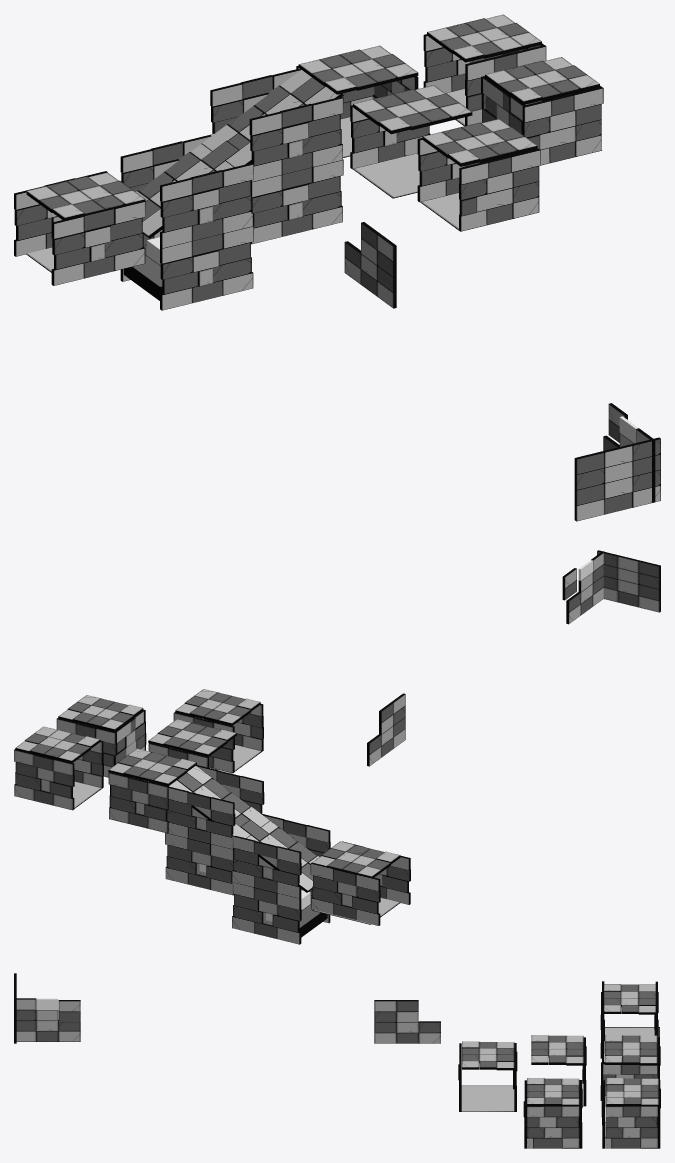
Rendered from all tiles.FBX.
The picture shows the model from 3 angles, top to bottom: view 1: azimuth 30°, elevation 25°; view 2: azimuth 150°, elevation 25°; view 3: azimuth 270°, elevation 25°; orthographic projection. The views are drawn at different scales.
Parts seen in each view (by area): view 1: Base 014, Base 011, Plane005, 646, Base 003, full tile, Plane003; view 2: Base 014, Base 011, full tile, Plane003, Plane005, 646, Base 003; view 3: 646, full tile, Plane005, Plane003, Base 011, Base 003, Base 014, Dark Gray lots of cracks, Dark Gray002, Light Gray023, Dark Gray017, Light Gray024 (+1 smaller).
Boxes of the visible parts, left/top/right/bottom form: Base 014: left=120, top=69, right=343, bottom=310; Base 011: left=14, top=171, right=145, bottom=285; Plane005: left=417, top=118, right=540, bottom=231; 646: left=481, top=57, right=603, bottom=165; Base 003: left=350, top=85, right=472, bottom=198; full tile: left=423, top=14, right=546, bottom=126; Plane003: left=296, top=45, right=418, bottom=157; Base 014: left=165, top=765, right=330, bottom=944; Base 011: left=310, top=841, right=410, bottom=925; full tile: left=14, top=726, right=103, bottom=810; Plane003: left=108, top=748, right=196, bottom=833; Plane005: left=173, top=689, right=263, bottom=773; 646: left=56, top=695, right=146, bottom=777; Base 003: left=148, top=719, right=236, bottom=767; 646: left=523, top=1078, right=582, bottom=1148; full tile: left=601, top=1078, right=660, bottom=1148; Plane005: left=458, top=1041, right=517, bottom=1111; Plane003: left=603, top=1035, right=660, bottom=1106; Base 011: left=600, top=981, right=659, bottom=1053; Base 003: left=531, top=1035, right=586, bottom=1106; Base 014: left=600, top=1009, right=658, bottom=1124; Dark Gray lots of cracks: left=374, top=1011, right=396, bottom=1022; Dark Gray002: left=418, top=1021, right=440, bottom=1032; Light Gray023: left=58, top=1000, right=80, bottom=1011; Dark Gray017: left=396, top=1000, right=418, bottom=1011; Light Gray024: left=374, top=1000, right=396, bottom=1011.
Size of the model in its own units: 360 by 122 by 599.
Materials: 6 (5 with a texture image).
